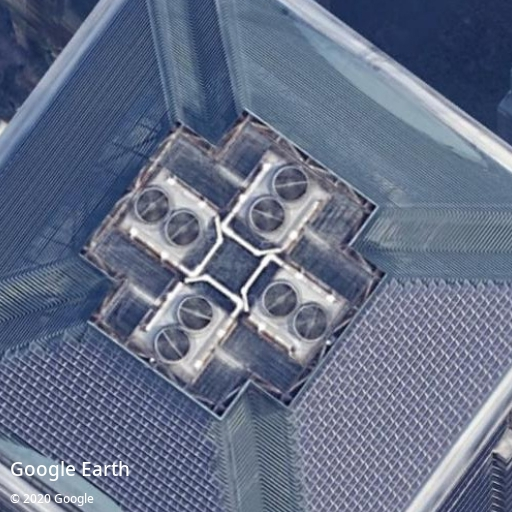Vent: (164, 210, 202, 248), (249, 196, 286, 233), (273, 165, 309, 202), (177, 295, 214, 331), (262, 281, 298, 318), (293, 304, 329, 341), (155, 327, 191, 363), (135, 188, 170, 223)
